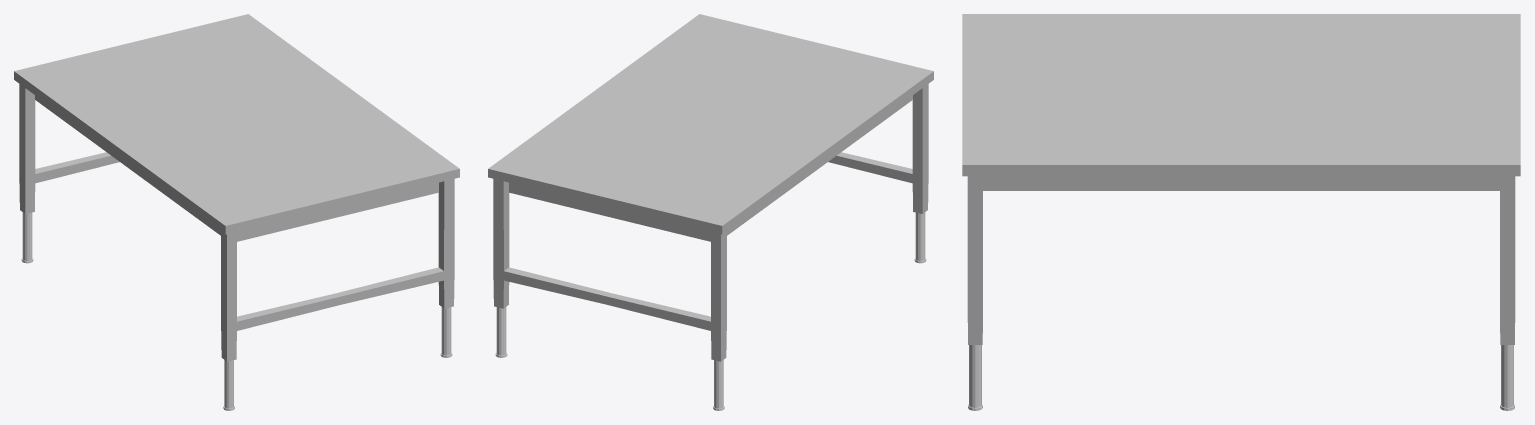
File: table.glb
3 views of the same model, side by side, from view 1: azimuth 30°, elevation 25°; view 2: azimuth 150°, elevation 25°; view 3: azimuth 270°, elevation 25° (orthographic). The views are drawn at different scales.
Visible parts, largest first — view 1: Cube.001, Cylinder.001; view 2: Cube.001, Cylinder.001; view 3: Cube.001, Cylinder.001.
Boxes of the visible parts, x1,y1,x2,y2 form: Cube.001: (14, 14, 459, 361); Cylinder.001: (21, 212, 452, 410); Cube.001: (488, 14, 933, 361); Cylinder.001: (495, 212, 926, 410); Cube.001: (962, 14, 1520, 344); Cylinder.001: (968, 345, 1514, 410).
Size of the model in its own units: 1.25 by 0.9583 by 1.95.
Materials: 1 (1 with a texture image).
